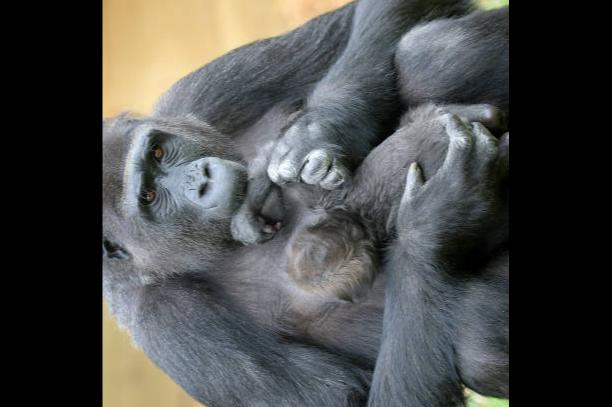gorille_Autres: (107, 0, 509, 407)
